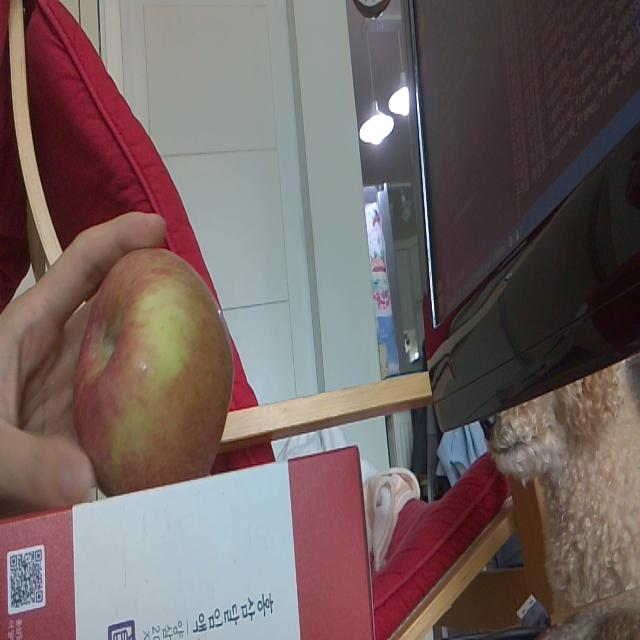apple: (72, 247, 236, 499)
